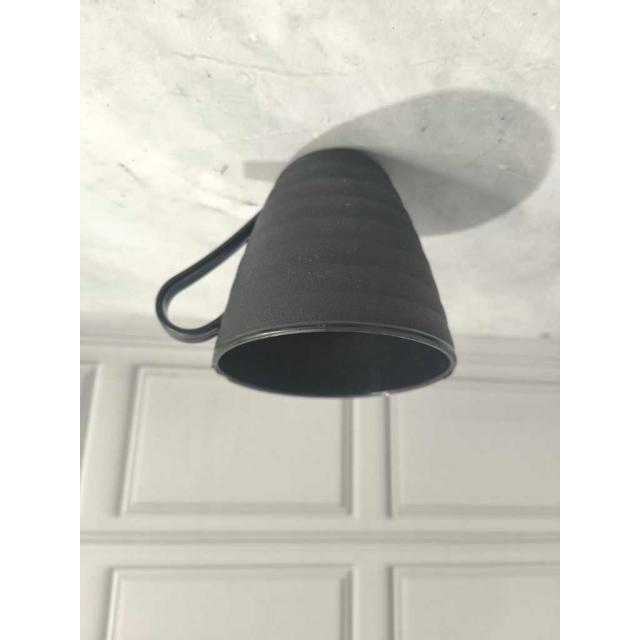Cangkir: (140, 142, 476, 429)
